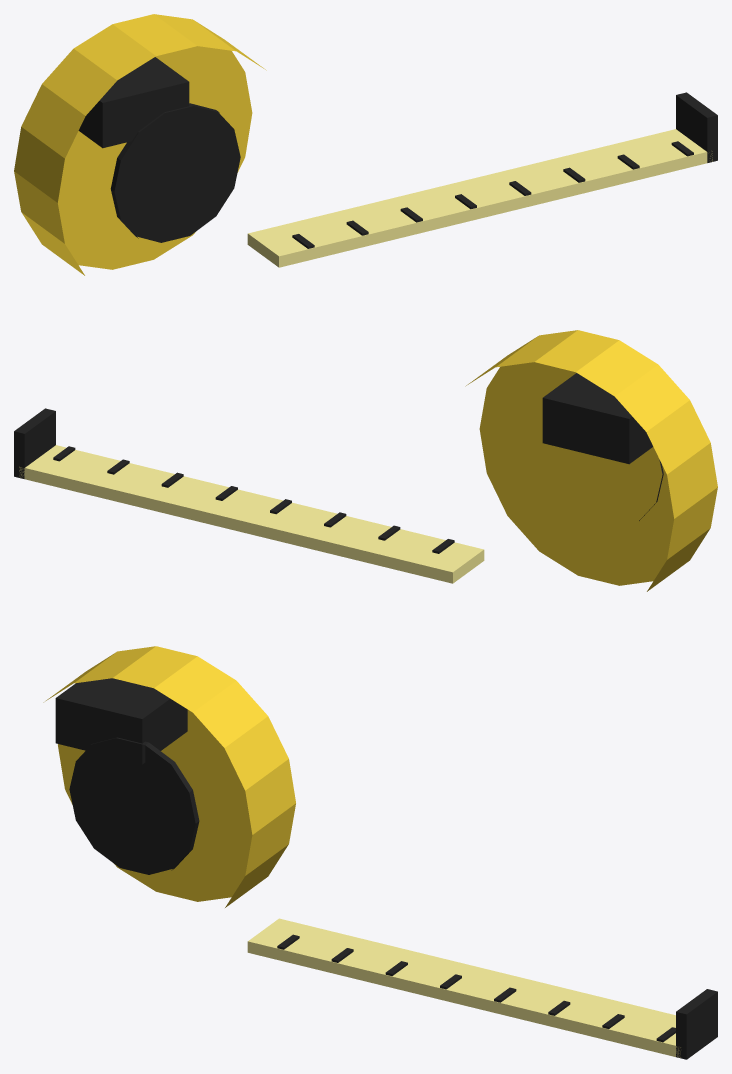
File: mattband.glb
3 renders of one model, top to bottom at view 1: azimuth 30°, elevation 25°; view 2: azimuth 150°, elevation 25°; view 3: azimuth 330°, elevation 25°, orthographic.
Visible parts, largest first — view 1: mattband; view 2: mattband; view 3: mattband.
Part boxes in pixels (x1,y1,x2,y2): mattband: (14, 14, 717, 275); mattband: (14, 330, 717, 591); mattband: (43, 646, 717, 1059).
Bounding box in the file's own units: 0.615 × 0.2183 × 0.0765.
